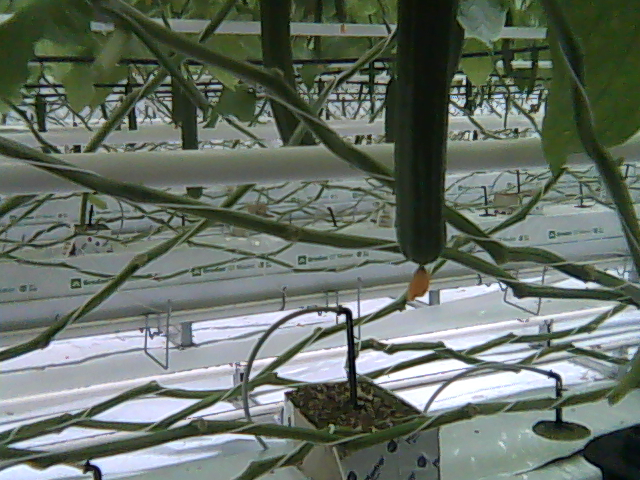concombre: (392, 1, 460, 298)
